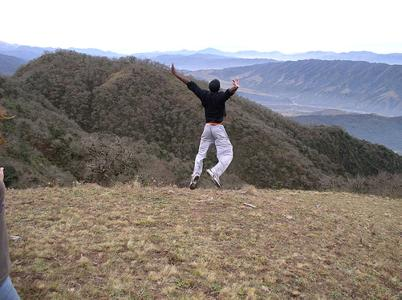person: (170, 67, 240, 192)
